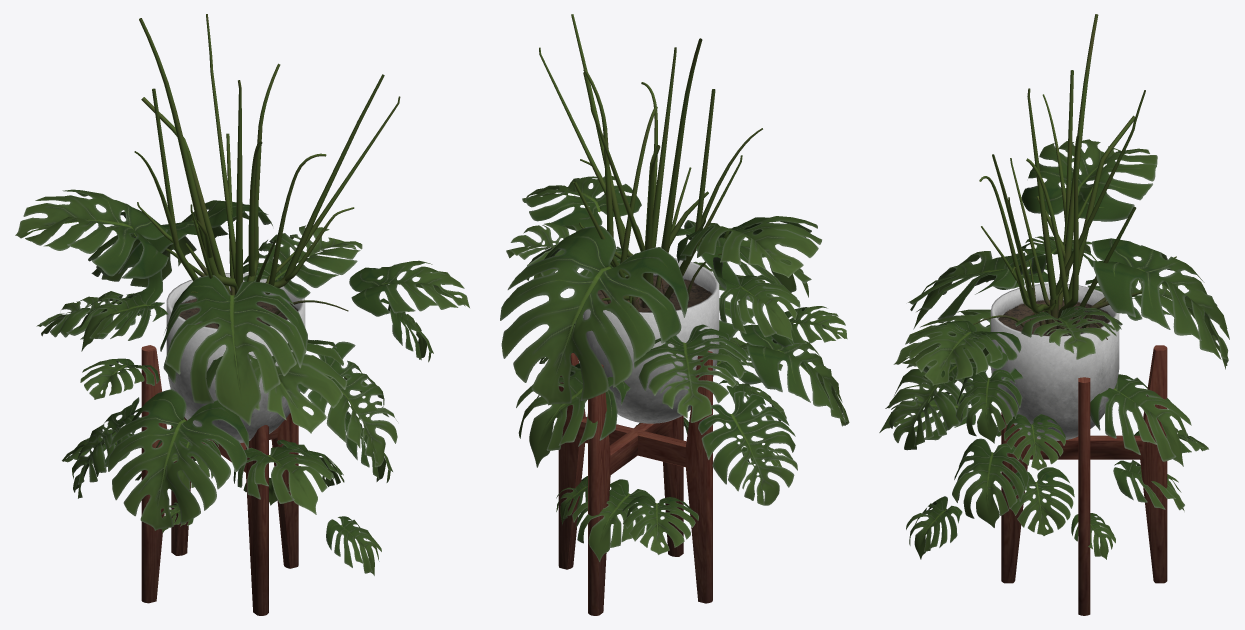
The model's file is monstera-deliciosa-potted-mid-century-pl-1ab9bf.glb.
3 views of the same model, side by side, from view 1: azimuth 30°, elevation 25°; view 2: azimuth 150°, elevation 25°; view 3: azimuth 270°, elevation 25° (orthographic). The views are drawn at different scales.
Visible parts, largest first — view 1: PropMesh; view 2: PropMesh; view 3: PropMesh.
Part boxes in pixels (bbox=[...]): PropMesh: bbox=[15, 14, 469, 615]; PropMesh: bbox=[500, 14, 849, 615]; PropMesh: bbox=[879, 14, 1229, 615].
Size of the model in its own units: 1.45 by 2.2 by 1.32.
Materials: 3 (3 with a texture image).
